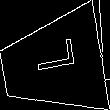L_W: (27, 45, 78, 84)
